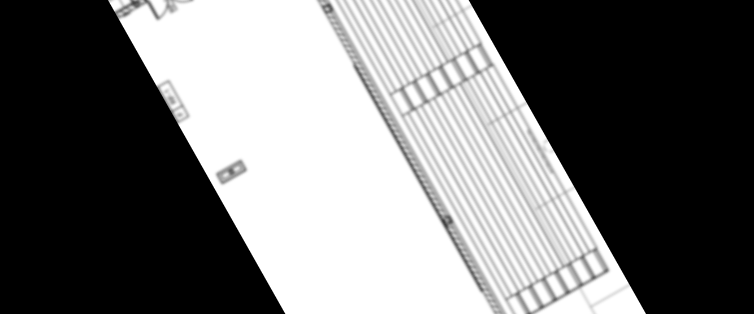double door: (211, 0, 538, 314), (140, 0, 198, 24), (71, 0, 147, 10)
wall: (114, 0, 150, 20)
